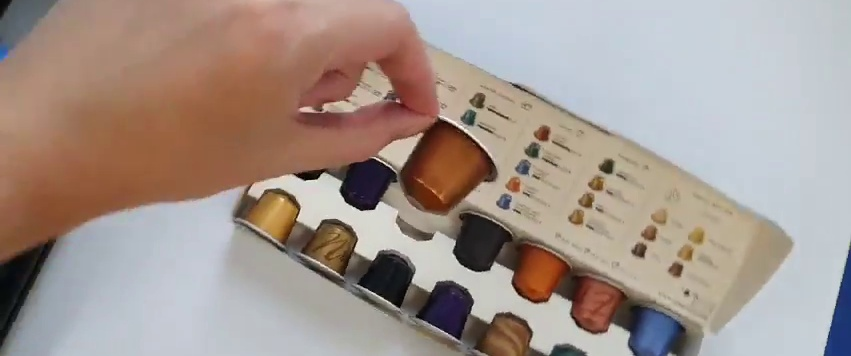capsule_3: (401, 111, 500, 216)
